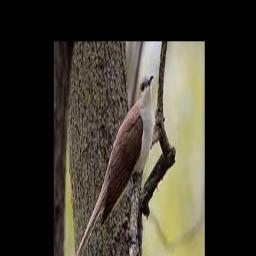Cuckoo: (67, 73, 153, 256)
